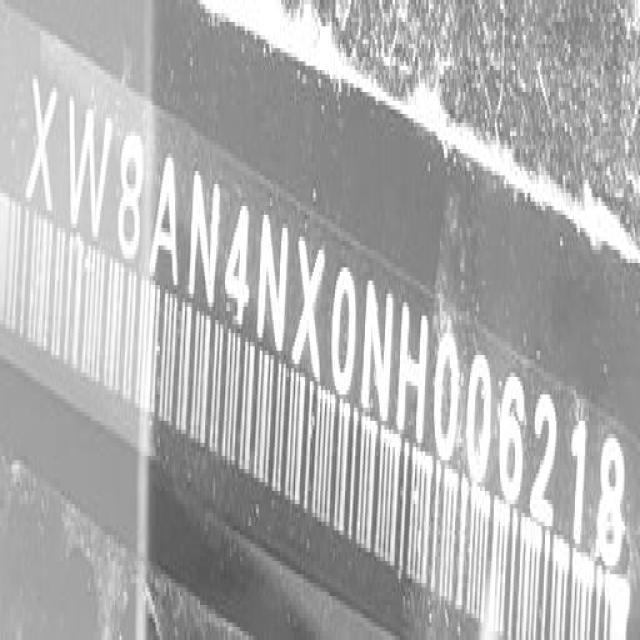0: (431, 319, 462, 467), (329, 255, 359, 406), (464, 347, 491, 491)
1: (570, 406, 590, 556)
2: (529, 384, 558, 534)
4: (223, 193, 253, 329)
6: (498, 372, 526, 508)
8: (596, 432, 628, 582), (115, 126, 146, 265)
A: (147, 147, 183, 297)
H: (395, 292, 431, 449)
N: (187, 163, 224, 315), (257, 208, 294, 355), (362, 277, 396, 430)
W: (66, 99, 116, 248)
X: (26, 72, 62, 223), (294, 231, 327, 378)
